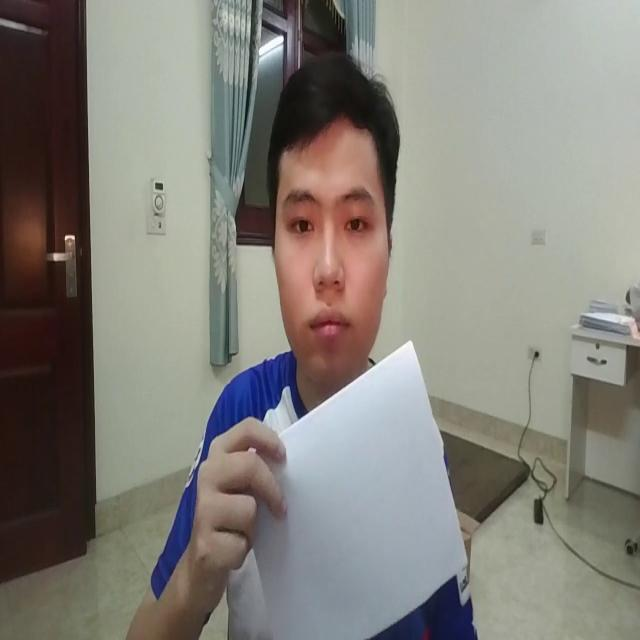book: (208, 317, 474, 640)
student: (116, 42, 488, 640)
